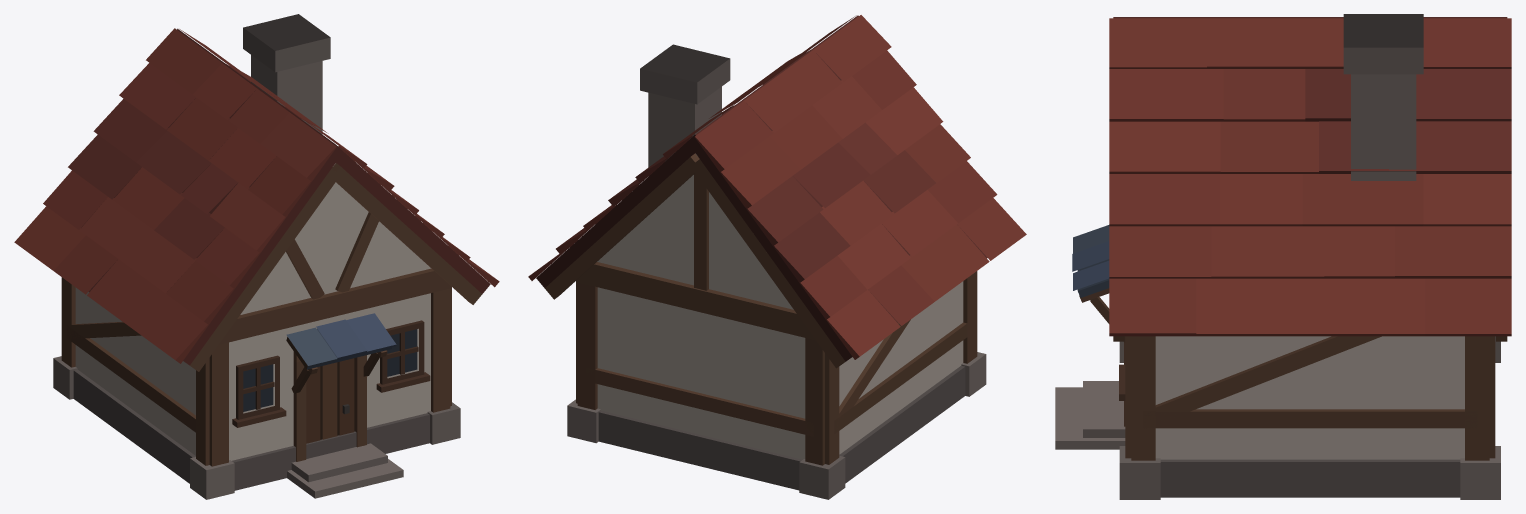
Rendered from homeA.glb.
3 views of the same model, side by side, from view 1: azimuth 30°, elevation 25°; view 2: azimuth 150°, elevation 25°; view 3: azimuth 270°, elevation 25° (orthographic). The views are drawn at different scales.
Visible parts, largest first — view 1: lit, canvas, face; view 2: lit, canvas, face; view 3: lit, canvas, face.
Boxes of the visible parts, x1,y1,x2,y2 form: lit: (14,14,499,499); canvas: (75,163,431,460); face: (61,212,451,466); lit: (528,15,1026,499); canvas: (597,153,963,459); face: (576,173,977,465); lit: (1055,14,1511,499); canvas: (1155,336,1464,459); face: (1125,336,1495,460).
Size of the model in its own units: 5.72 by 5.8 by 5.6.
